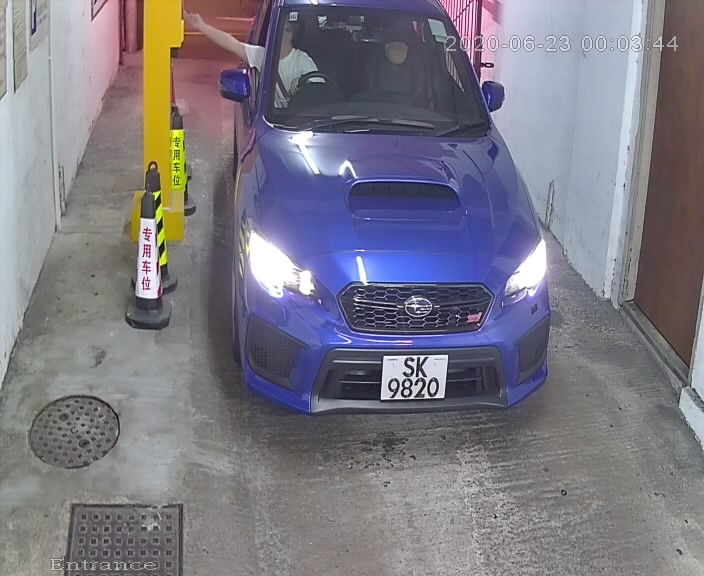privatecar: (203, 2, 590, 459)
